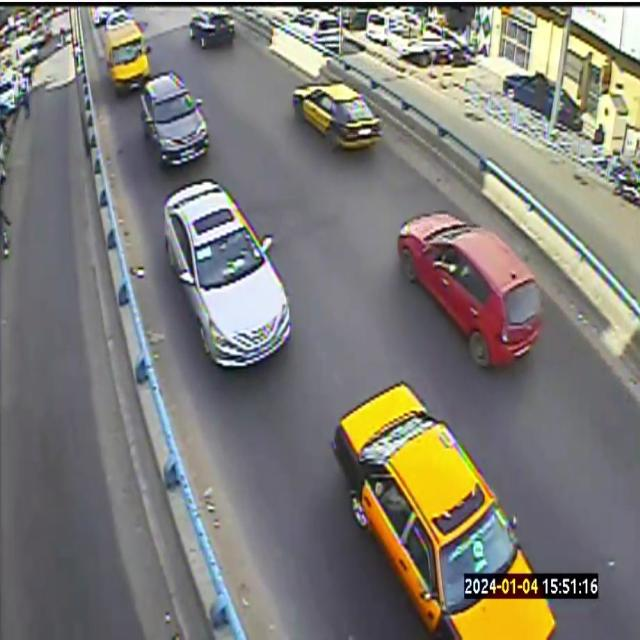car: (331, 383, 555, 639), (164, 179, 290, 367), (397, 211, 541, 367), (141, 72, 209, 166), (105, 22, 150, 93), (189, 7, 234, 48)
